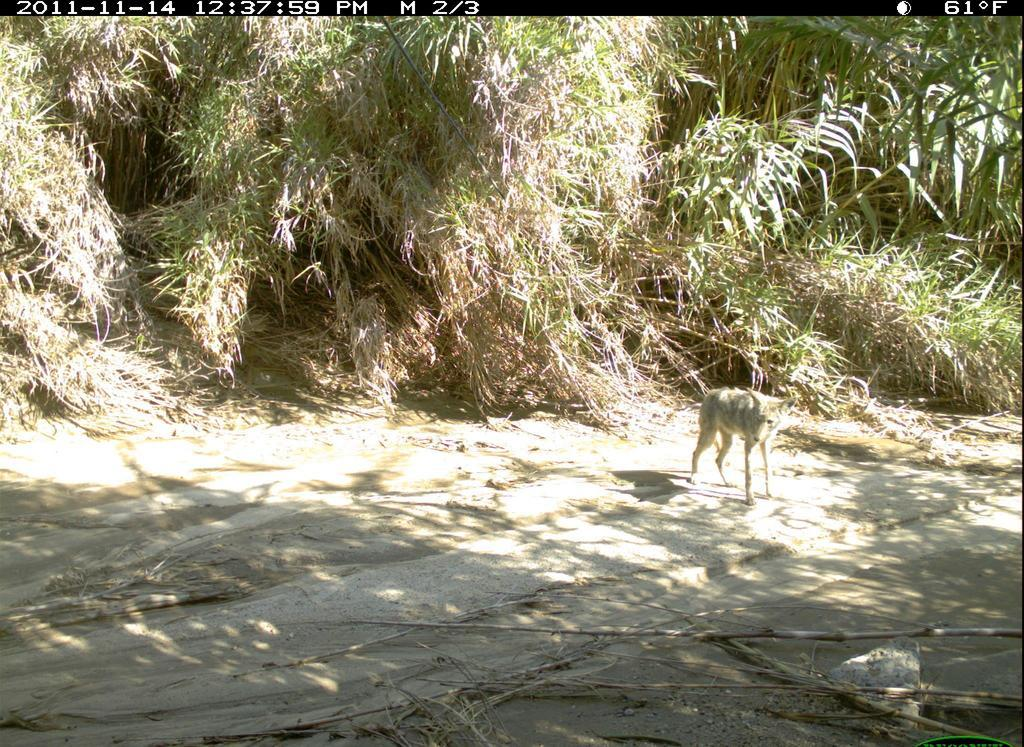coyote: (687, 380, 801, 511)
